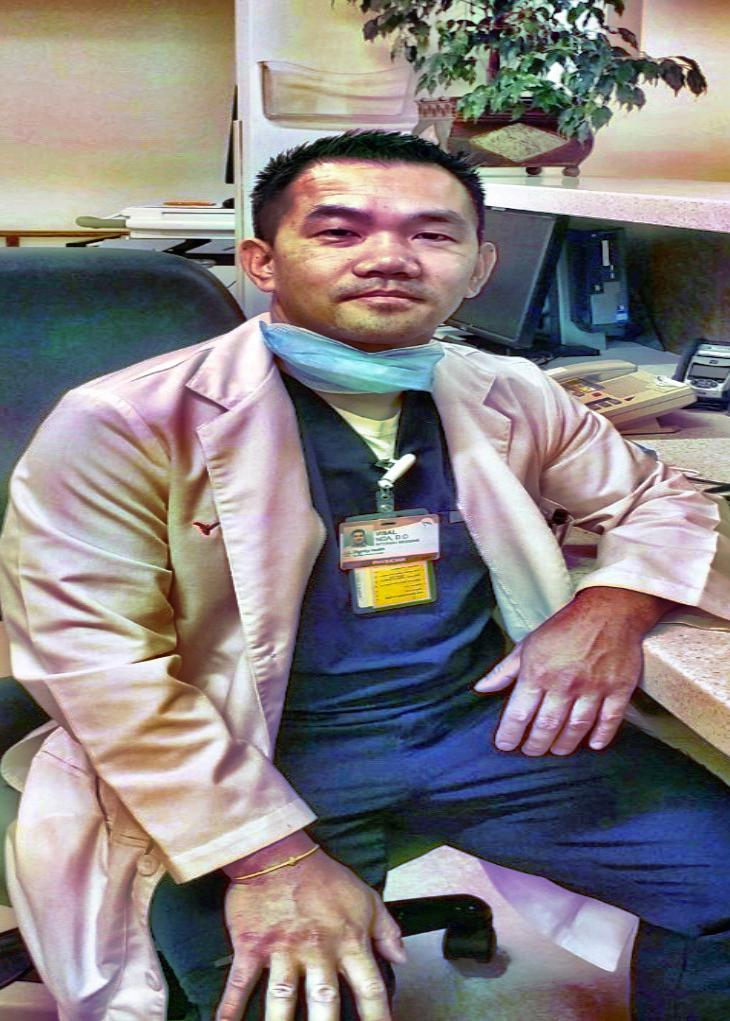mask_weared_incorrect: (239, 130, 492, 366)
